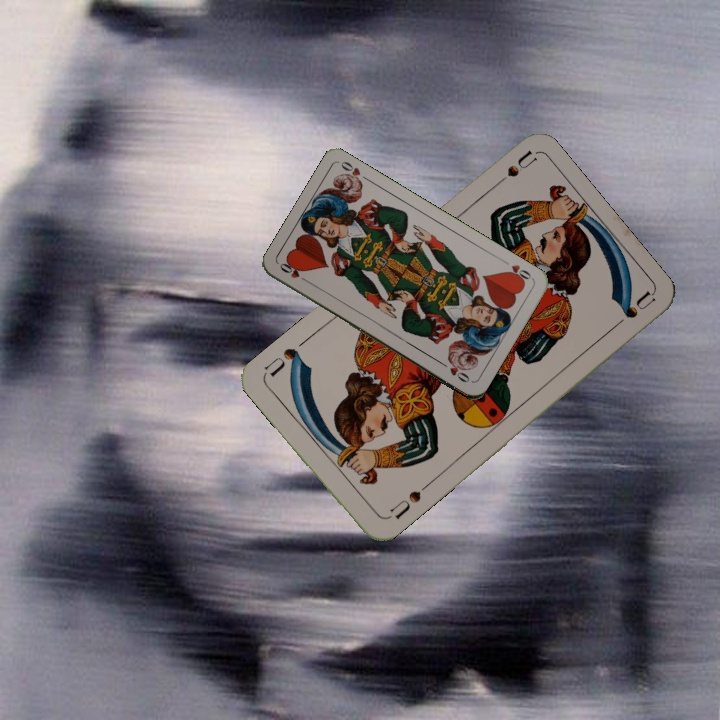HO: (498, 256, 535, 286), (275, 259, 312, 286)
SU: (486, 147, 538, 193), (381, 486, 424, 523)
